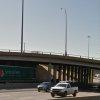Bridge: (4, 40, 95, 78)
